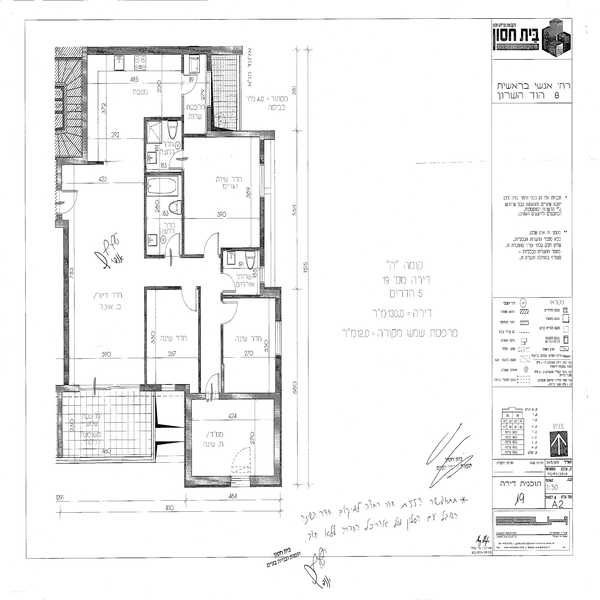door: (222, 434, 258, 482), (57, 186, 86, 213), (195, 232, 221, 262), (177, 278, 199, 313), (216, 266, 243, 294), (221, 297, 242, 329), (173, 67, 194, 98), (207, 373, 227, 403), (160, 233, 181, 257)
room: (44, 152, 146, 392), (72, 45, 216, 138), (184, 386, 287, 491), (176, 137, 267, 254), (197, 288, 287, 405), (138, 116, 190, 258), (144, 283, 207, 397)
wall: (56, 218, 77, 389), (87, 42, 251, 55), (77, 61, 97, 160), (179, 391, 198, 493), (204, 124, 282, 145), (272, 360, 283, 484), (178, 172, 193, 260), (257, 284, 287, 324), (140, 114, 148, 264), (218, 325, 234, 397), (142, 274, 153, 378), (221, 389, 287, 405), (189, 467, 234, 490), (256, 197, 269, 265), (197, 287, 204, 394), (147, 278, 182, 296), (249, 474, 287, 490), (223, 242, 259, 251)
window: (270, 321, 287, 358), (255, 164, 270, 195), (205, 70, 219, 103)
